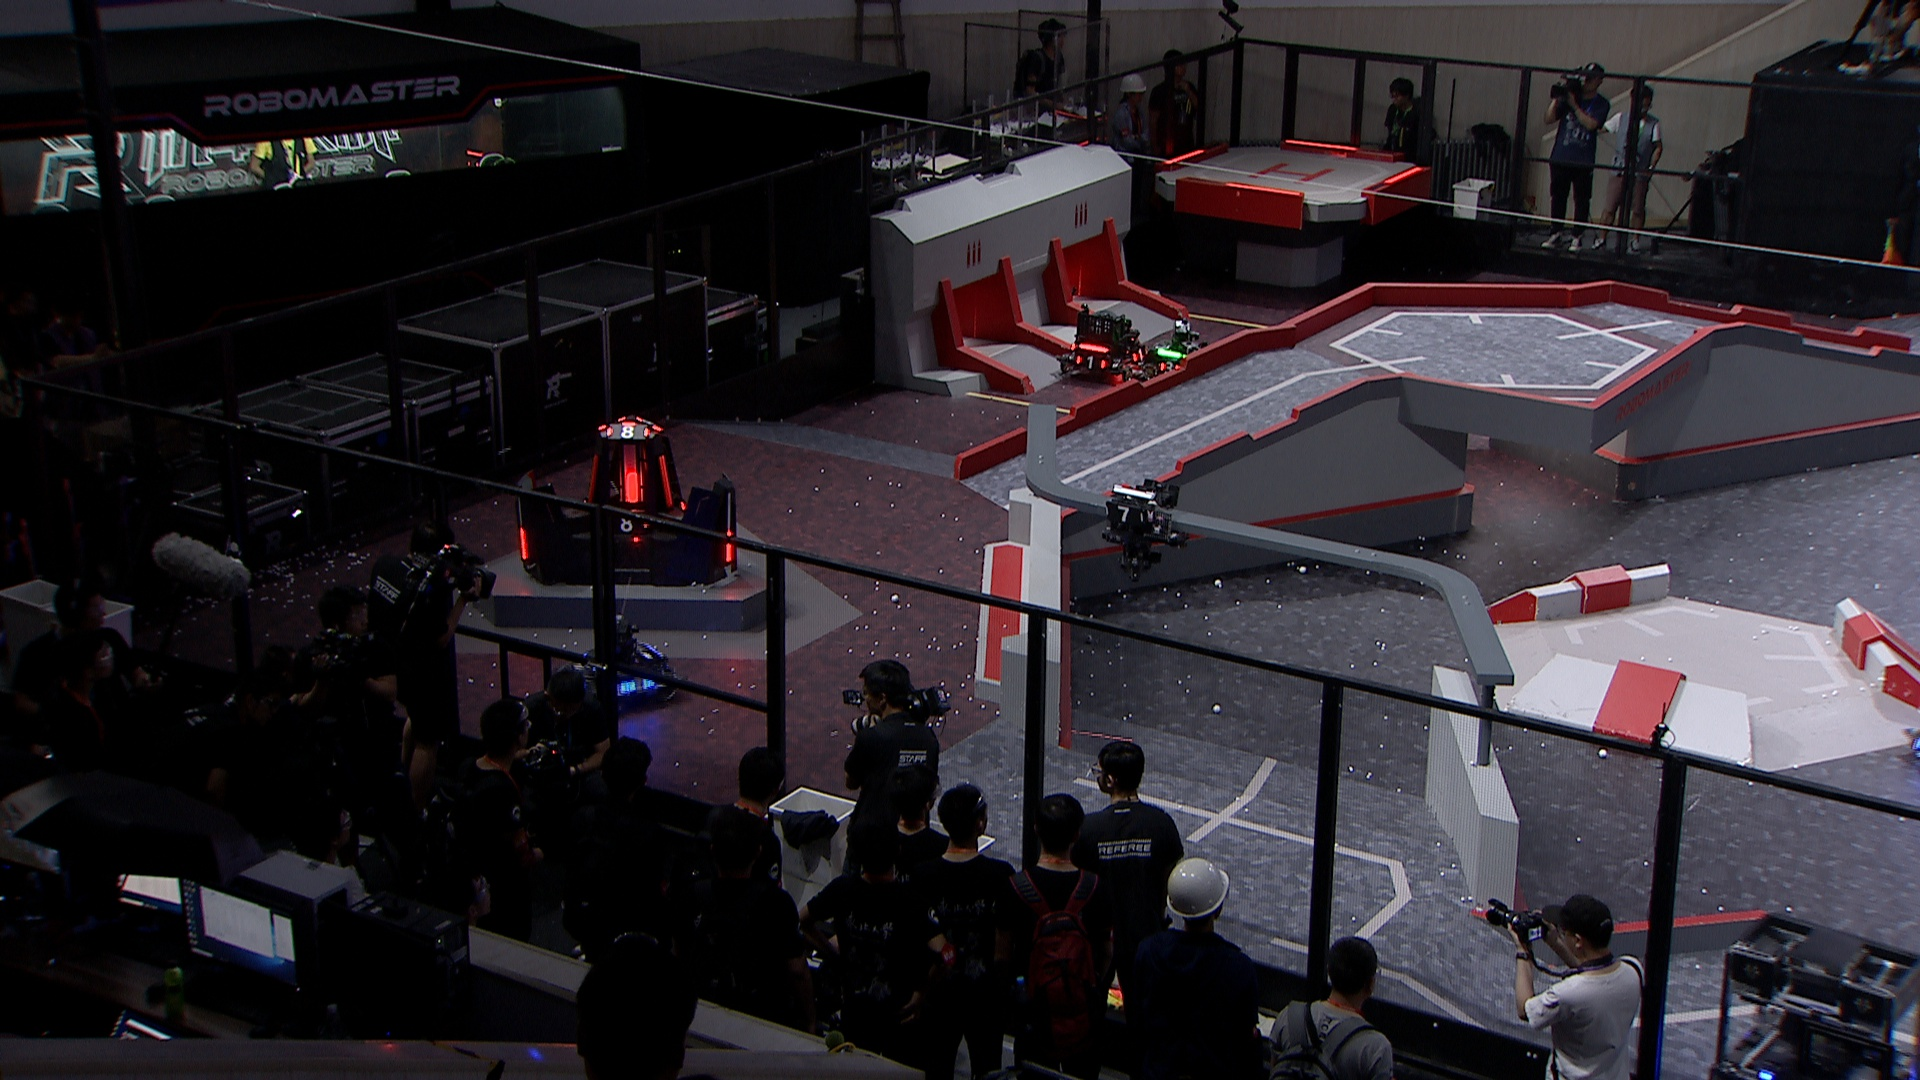armor: (1100, 502, 1147, 526), (655, 454, 673, 510), (583, 452, 600, 509), (613, 676, 657, 698), (603, 425, 654, 442), (621, 469, 642, 506), (1073, 353, 1110, 373), (514, 524, 531, 562), (613, 517, 647, 535), (1156, 360, 1182, 375), (1129, 345, 1149, 363), (723, 541, 736, 566)
base: (512, 417, 740, 589)
car: (1698, 910, 1920, 1080), (560, 613, 684, 712), (1054, 305, 1153, 384), (1141, 320, 1215, 385)
watcher: (1098, 479, 1188, 582)
